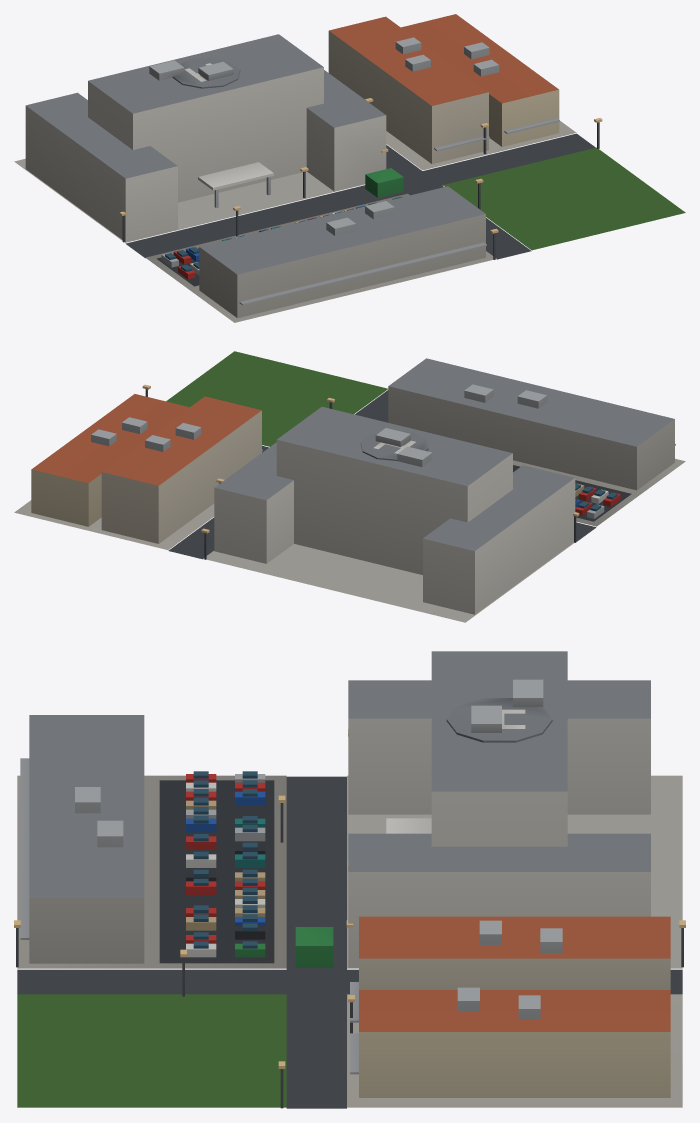
File: district_hospital_hill.fbx
The picture shows the model from 3 angles, top to bottom: view 1: azimuth 30°, elevation 25°; view 2: azimuth 150°, elevation 25°; view 3: azimuth 270°, elevation 25°; orthographic projection. The views are drawn at different scales.
Visible parts, largest first — view 1: district_hospital_hill; view 2: district_hospital_hill; view 3: district_hospital_hill.
Part boxes in pixels (<box>): district_hospital_hill: <box>14,14,685,322</box>; district_hospital_hill: <box>14,351,685,622</box>; district_hospital_hill: <box>14,651,685,1108</box>.
Size of the model in its own units: 105 by 23.75 by 88.9.
